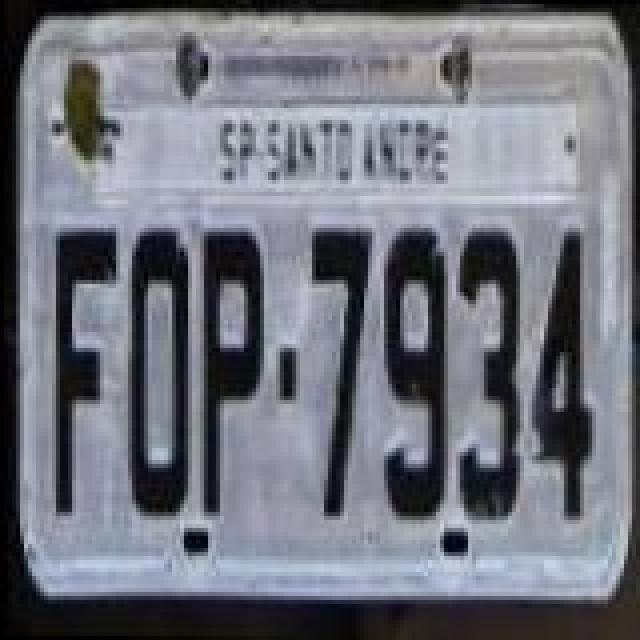3: (450, 218, 526, 522)
4: (522, 222, 598, 522)
7: (304, 230, 376, 522)
9: (374, 220, 450, 520)
F: (46, 228, 122, 516)
O: (124, 226, 196, 522)
P: (194, 220, 270, 520)
